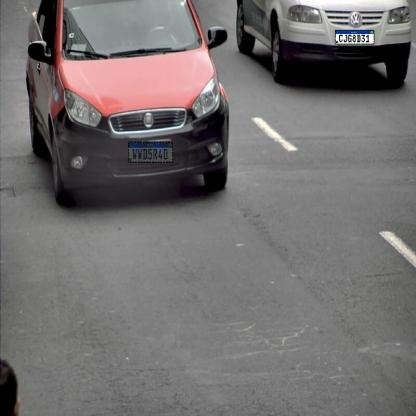PlacaM: (128, 141, 173, 163), (335, 30, 374, 44)
